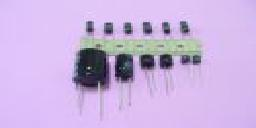Electrolytic-capacitor: (74, 47, 107, 118), (112, 54, 135, 107), (138, 52, 159, 98), (158, 52, 179, 94), (189, 53, 206, 89), (178, 53, 191, 89), (84, 18, 98, 36), (103, 22, 114, 38)
